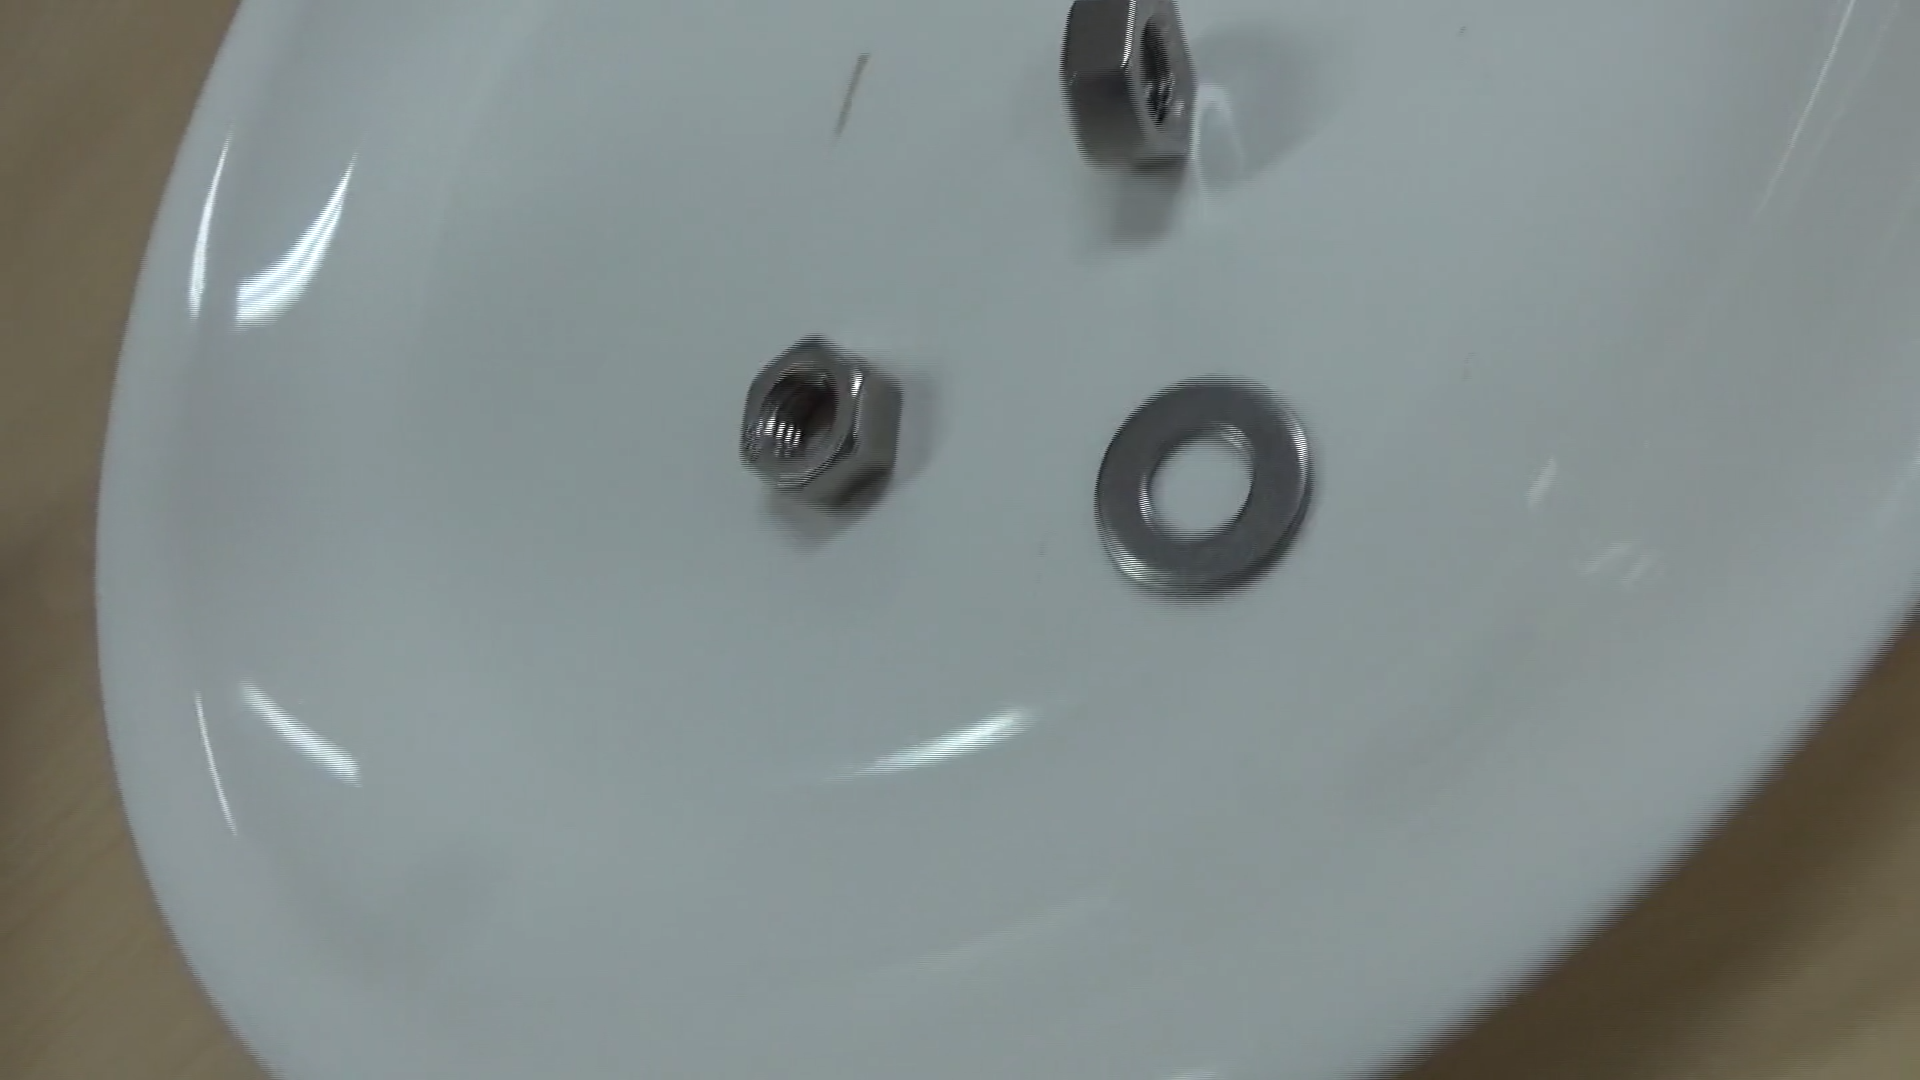nut: (719, 320, 930, 549), (1029, 0, 1238, 183)
washer: (1063, 342, 1333, 624)
